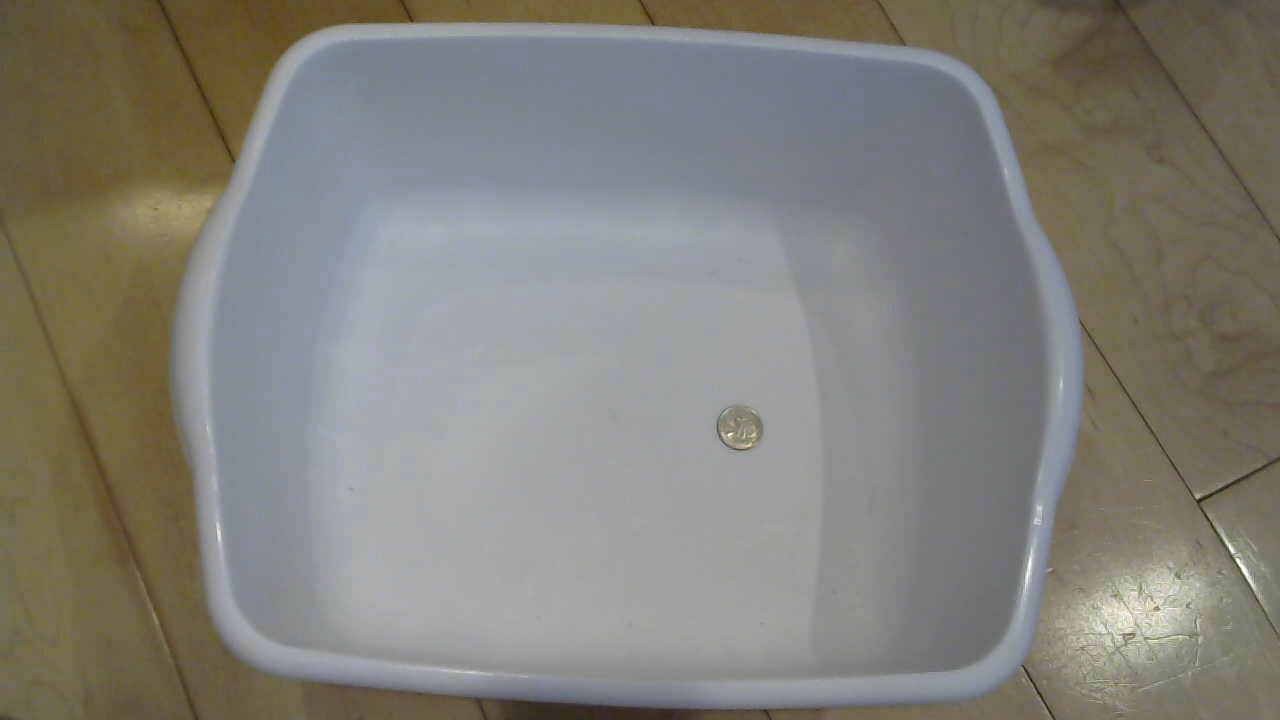coin: (713, 402, 777, 461)
